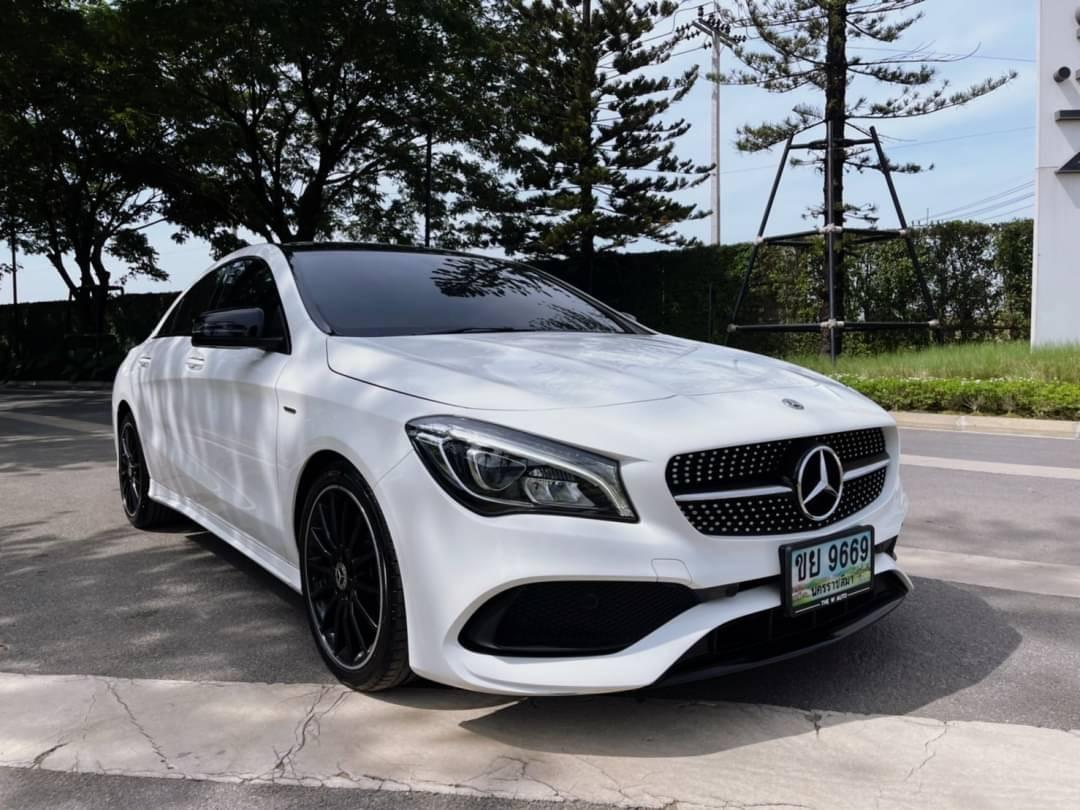license-plate: (778, 524, 880, 615)
